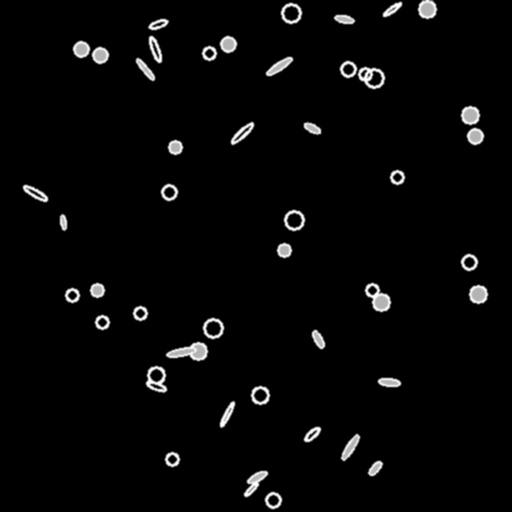pseudomonas: (229, 121, 255, 145), (265, 55, 293, 77), (339, 433, 361, 461), (135, 57, 155, 81), (22, 184, 48, 202), (219, 401, 235, 427), (147, 36, 163, 62), (166, 346, 196, 358), (310, 329, 326, 349), (247, 469, 267, 485), (382, 1, 402, 17), (145, 379, 167, 393), (303, 426, 321, 442), (367, 459, 383, 477), (243, 481, 259, 497), (303, 121, 321, 135), (378, 377, 400, 387), (149, 18, 167, 30), (335, 14, 353, 24), (59, 214, 67, 230)
synechocystis: (282, 4, 300, 22), (365, 69, 383, 87), (204, 319, 222, 337), (285, 211, 303, 229), (252, 387, 268, 403), (419, 1, 435, 17), (470, 286, 486, 302), (462, 107, 478, 123), (190, 343, 206, 359), (148, 367, 164, 383), (373, 294, 389, 310), (162, 185, 176, 199), (468, 129, 482, 143), (266, 493, 280, 507), (74, 42, 88, 56), (221, 37, 235, 51), (341, 62, 355, 76), (93, 48, 107, 62), (462, 255, 476, 269), (203, 47, 215, 59), (96, 316, 108, 328), (366, 284, 378, 296), (278, 244, 290, 256), (134, 307, 146, 319), (66, 289, 78, 301), (91, 284, 103, 296), (166, 453, 178, 465), (359, 68, 371, 80), (391, 171, 403, 183), (169, 141, 181, 153)
